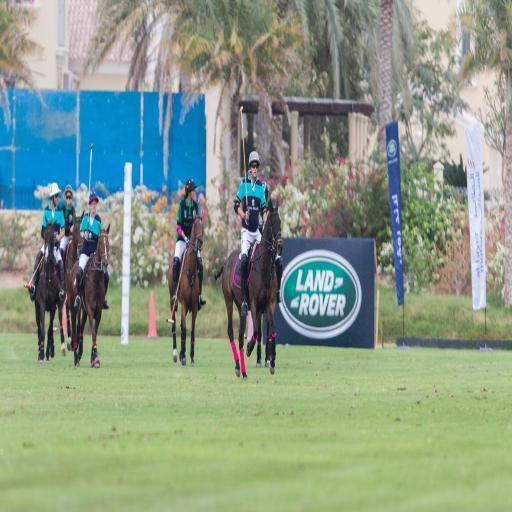horse: (214, 195, 284, 383), (68, 222, 110, 370), (168, 208, 204, 364), (32, 214, 60, 364), (58, 212, 86, 360), (254, 260, 279, 374)
